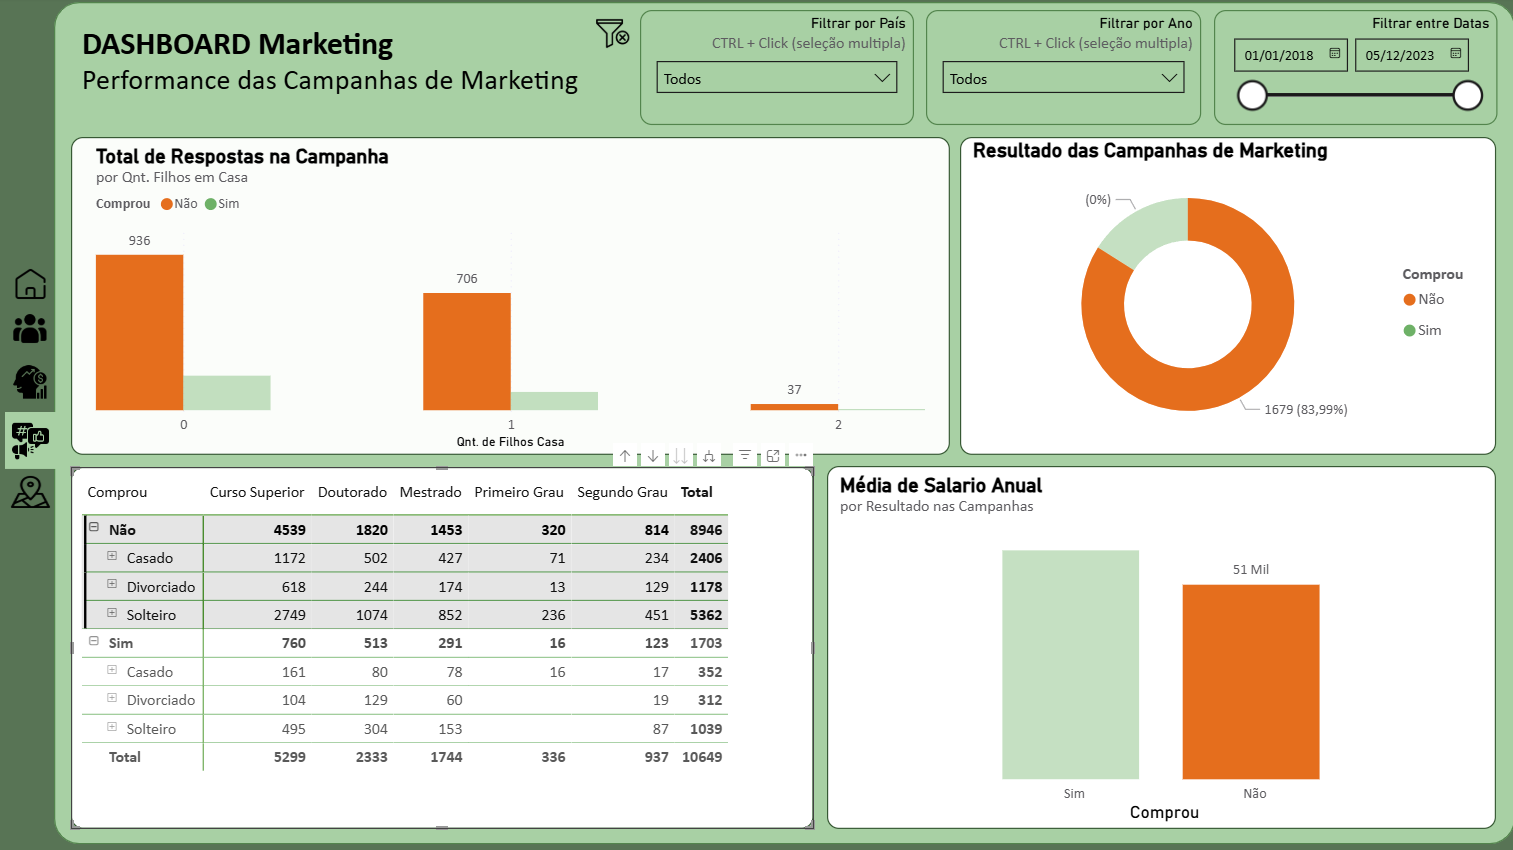

The page's visual inventory and layout, read from the dashboard file:
{"tool":"powerbi","page":{"name":"Visão Campanhas","canvas":[1280,720],"ordinal":3},"visuals":[{"type":"group","id":"g1","title":"Grupo 1","box":[48.2,4.5,1231.8,710],"z":0},{"type":"shape","box":[48.2,4.5,1231.8,710],"z":0,"group":"g1"},{"type":"textbox","box":[67.1,17.6,470.9,73.6],"z":1000,"group":"g1"},{"type":"donutChart","title":"Resultado das Campanhas de Marketing","fields":{"Category":["Dados_Marketing.Comprou"],"Y":["CountNonNull(Dados_Marketing.ID)"]},"box":[811.9,118.3,452.2,268.3],"z":1000},{"type":"slicer","title":"Filtrar por Ano","fields":{"Values":["Dados_Marketing.Data Cadastro.Variation.Hierarquia de datas.Ano"]},"box":[783.7,10.9,231.8,97.3],"z":2000,"group":"g1"},{"type":"columnChart","title":"Média de Salario Anual","fields":{"Category":["Dados_Marketing.Comprou"],"Y":["Avg(Dados_Marketing.Salario Anual)"]},"box":[699.6,395.5,564.5,306.1],"z":2000},{"type":"slicer","title":"Filtrar por País","fields":{"Values":["Dados_Marketing.Pais"]},"box":[541.8,10.9,230.9,97.3],"z":3000,"group":"g1"},{"type":"pivotTable","fields":{"Rows":["Dados_Marketing.Comprou","Dados_Marketing.Estado Civil","Dados_Marketing.Pais"],"Values":["Sum(Dados_Marketing.Numero Visitas WebSite Mes)"],"Columns":["Dados_Marketing.Escolaridade"]},"box":[62.6,396.5,626.1,305.1],"z":3000},{"type":"image","box":[7,398.9,42.7,37.3],"z":3000,"group":"g3"},{"type":"slicer","title":"Filtrar entre Datas","fields":{"Values":["Dados_Marketing.Data Cadastro"]},"box":[1026.4,10.9,239.1,97.3],"z":4000,"group":"g1"},{"type":"clusteredColumnChart","title":"Total de Respostas na Campanha","fields":{"Series":["Dados_Marketing.Comprou"],"Category":["Dados_Marketing.Filhos em Casa"],"Y":["CountNonNull(Dados_Marketing.Comprou)"]},"box":[62.6,118.3,741.4,268.3],"z":4000},{"type":"image","box":[7,260.7,42.7,38.2],"z":4000,"group":"g3"},{"type":"group","id":"g2","title":"Grupo 5","box":[7,223.6,42.7,212.7],"z":5000},{"type":"group","id":"g3","title":"Grupo 2","box":[7,260.7,42.7,175.5],"z":5000,"group":"g2"},{"type":"image","box":[7,303.4,42.7,41.8],"z":5000,"group":"g3"},{"type":"image","box":[498.9,11.9,39.8,37.8],"z":6000},{"type":"image","box":[7,223.6,42.6,37.2],"z":6000,"group":"g2"},{"type":"image","box":[7,349.8,42.7,48.2],"z":6000,"group":"g3"}]}

Visuals, with their boxes on the page's 1280x720 design canvas (x1, y1, x2, y2). These are canvas units, not pixel positions in the 1513x850 screenshot, which may show the page scaled, cropped or inside an application window:
"Grupo 1" group: 48 4 1280 714
shape: 48 4 1280 714
textbox: 67 18 538 91
"Resultado das Campanhas de Marketing" donutChart: 812 118 1264 387
"Filtrar por Ano" slicer: 784 11 1016 108
"Média de Salario Anual" columnChart: 700 396 1264 702
"Filtrar por País" slicer: 542 11 773 108
pivotTable - Dados_Marketing.Comprou x Dados_Marketing.Estado Civil: 63 396 689 702
image: 7 399 50 436
"Filtrar entre Datas" slicer: 1026 11 1266 108
"Total de Respostas na Campanha" clusteredColumnChart: 63 118 804 387
image: 7 261 50 299
"Grupo 5" group: 7 224 50 436
"Grupo 2" group: 7 261 50 436
image: 7 303 50 345
image: 499 12 539 50
image: 7 224 50 261
image: 7 350 50 398
